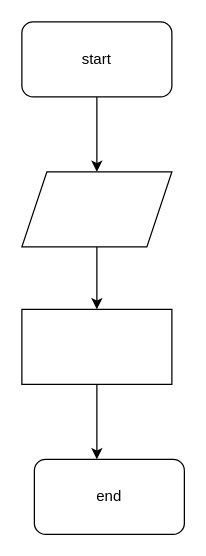
Image size: 206x556. Some labels were removed from this diagram. Each missing label, with the centre of its shape:
c=b-a: [96,346]
Doğum ili=a Yaşanılan il=b Yaş=c: [96,209]
